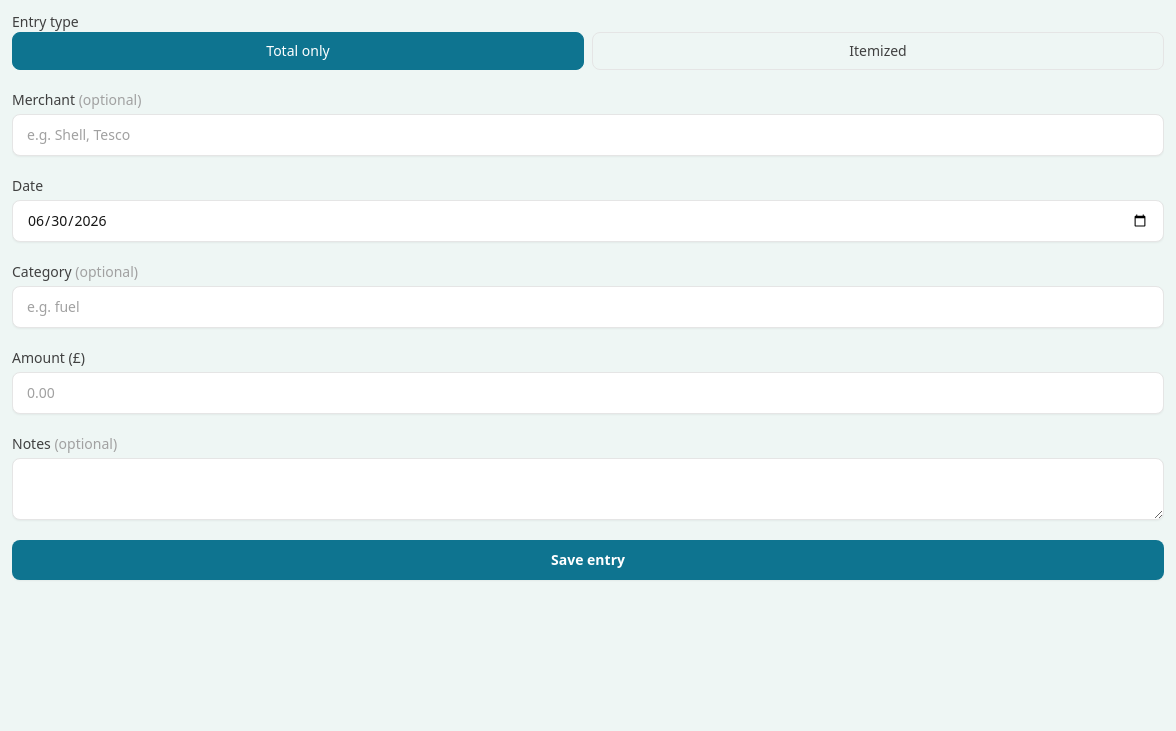
Test: ManualEntryForm › adds and removes item rows
Click the radio button labelled "Itemized": (878, 51) [592,32,1164,70]
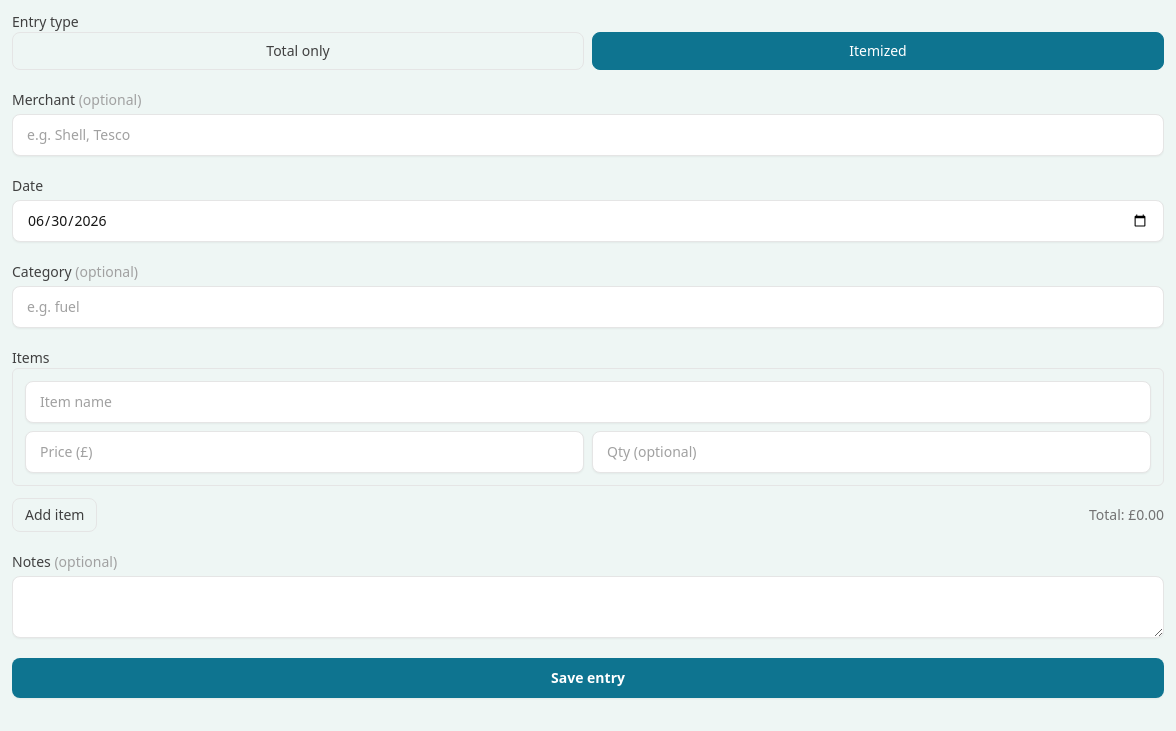
Click the button "Add item": (55, 515) [12,498,98,532]
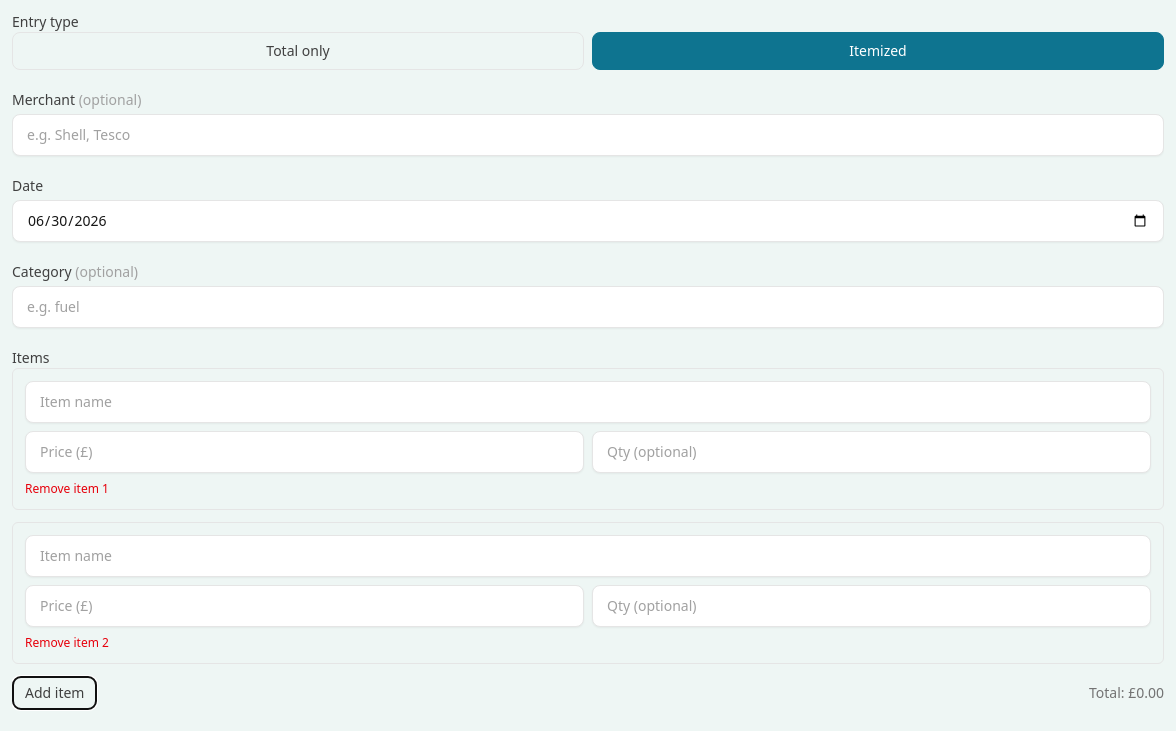
Expected: the number of elements "Remove item 1" is 2, [12,368,1164,510]; [12,522,1164,664]
Click the button "Remove item 2": (67, 643) [25,635,109,651]
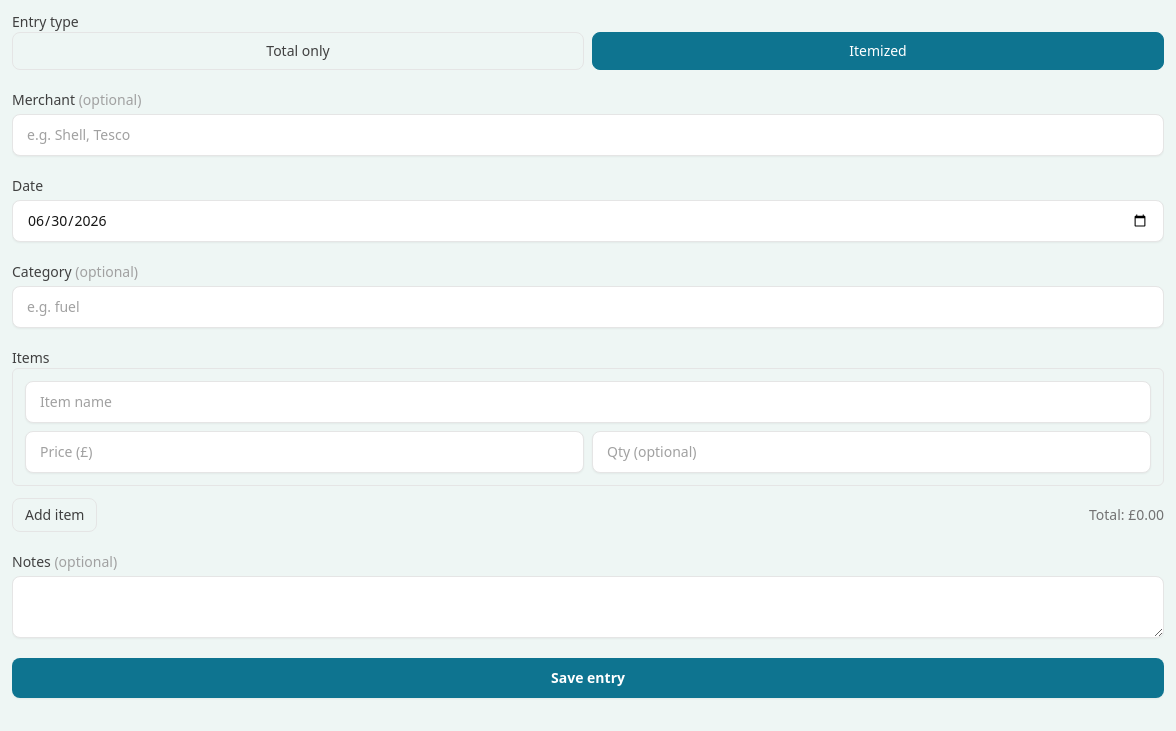
Expected: the number of elements named "Item 1" is 1, [12,368,1164,486]
